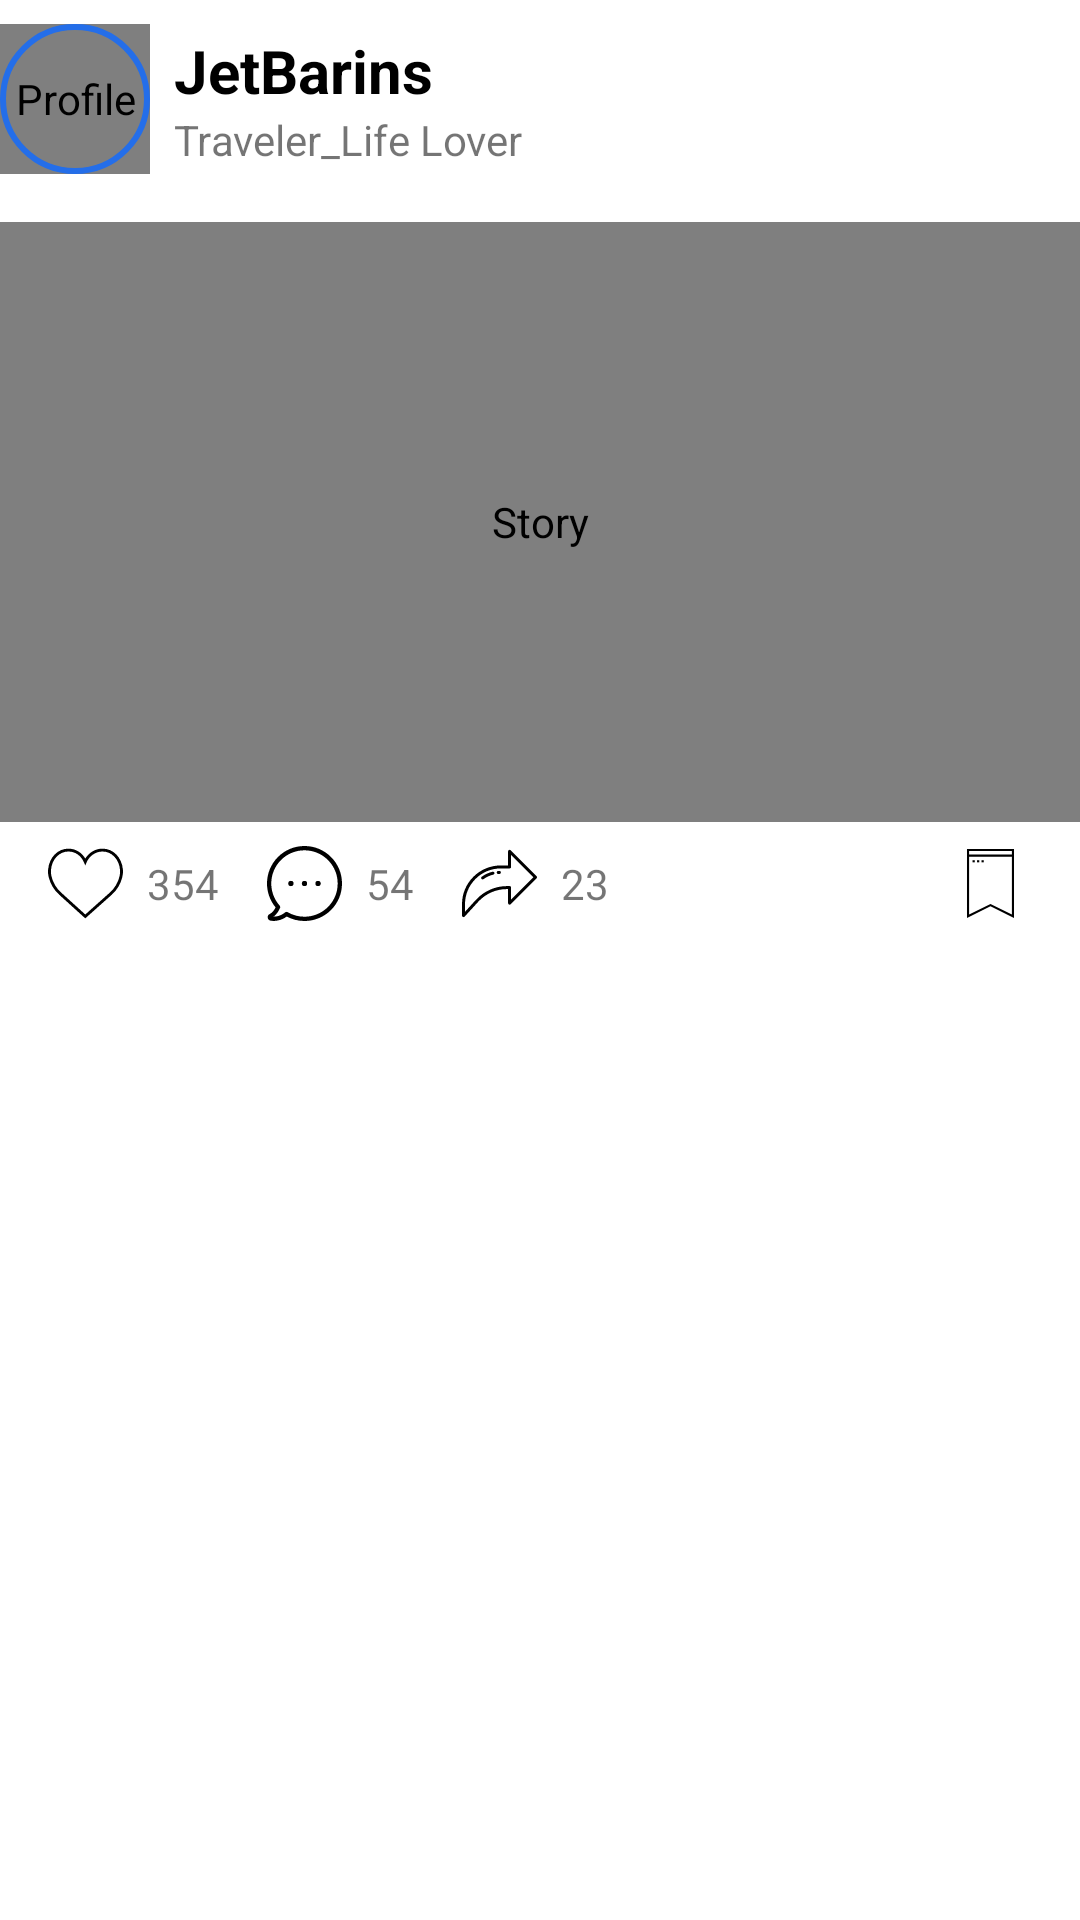

Icon bounding boxes for this 1080 x 1920 phone screenshot, format {"x1": x1, "y1": y1, "x2": x2, "y2": y2}:
bookmark: {"x1": 967, "y1": 849, "x2": 1014, "y2": 918}
